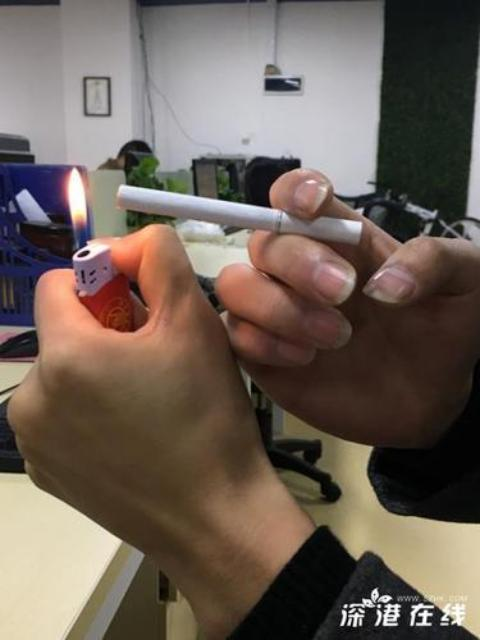Cigarette: (116, 184, 364, 248)
